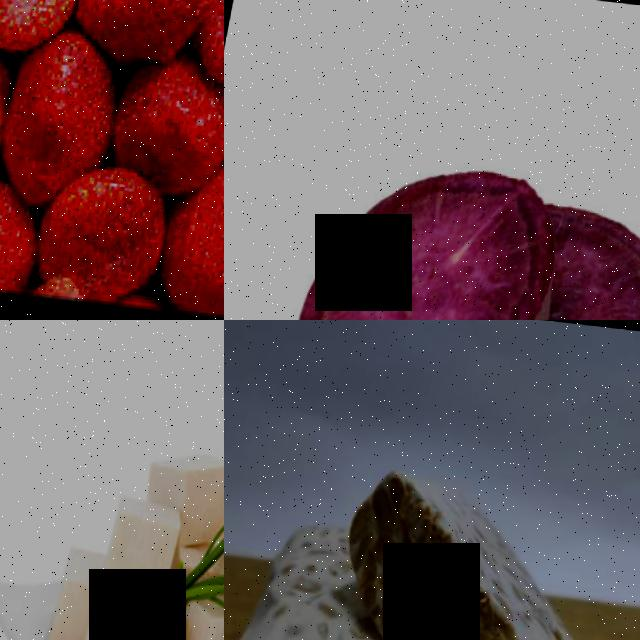strawberry: (118, 62, 224, 176), (73, 0, 224, 61), (199, 159, 224, 318)
sweet potato: (279, 140, 577, 320)
tempeh: (342, 458, 516, 639), (392, 535, 640, 640)
tofu: (105, 491, 190, 597), (149, 437, 224, 510), (53, 540, 107, 640), (77, 593, 182, 640)
